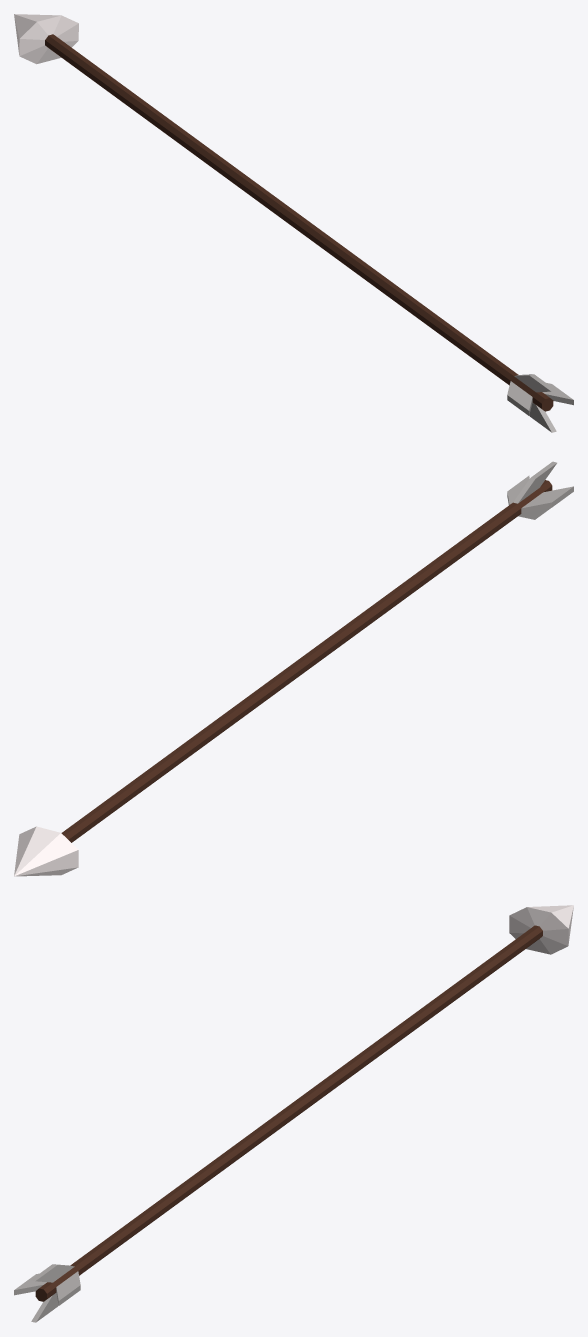
Rendered from Arrow.fbx.
3 views of the same model, one above another, from view 1: azimuth 30°, elevation 25°; view 2: azimuth 150°, elevation 25°; view 3: azimuth 330°, elevation 25° (orthographic).
Visible parts, largest first — view 1: körper, Kopf, Hinten; view 2: körper, Kopf, Hinten; view 3: körper, Kopf, Hinten.
Boxes of the visible parts, x1,y1,x2,y2 form: körper: (45,34,553,411); Kopf: (14,14,78,64); Hinten: (507,374,573,432); körper: (61,480,552,842); Kopf: (14,826,78,876); Hinten: (507,461,573,519); körper: (35,925,542,1301); Kopf: (509,905,573,954); Hinten: (14,1264,80,1322).
Size of the model in its own units: 22.88 by 15.92 by 360.
